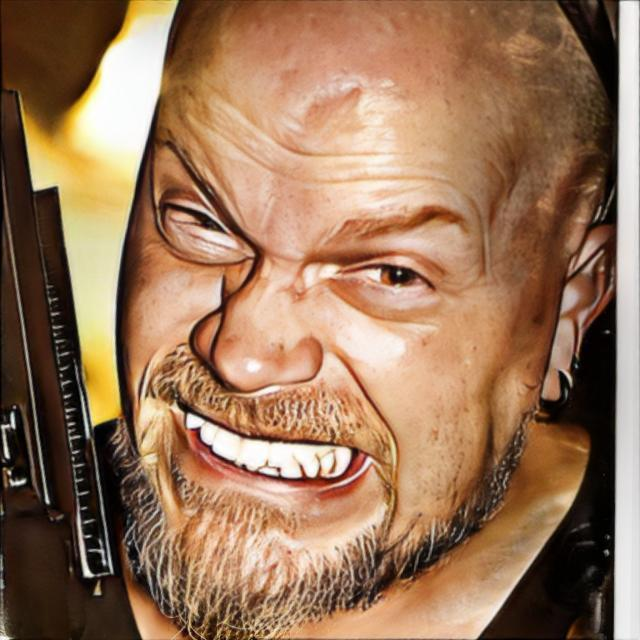anger: (111, 41, 540, 597)
